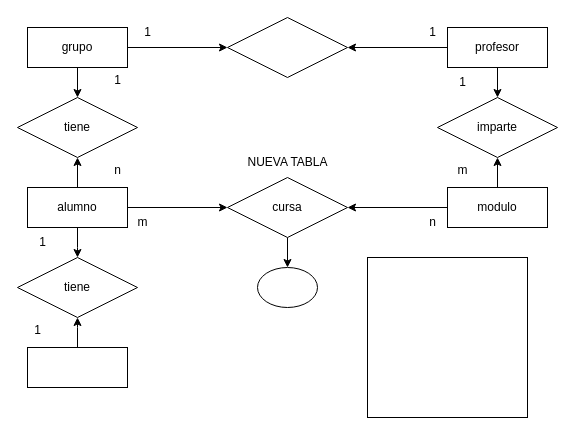
Some shapes in this 575 by 435 pixel diagram are drawn without their labels. The shapes that lost their labels are listed below. From the top down, each one's box as (x1, y1, x2, y2) in pixels, then its label:
(226, 16, 348, 78): tutor
(256, 266, 318, 308): nota
(366, 256, 528, 418): grupo alumno/direccion profesor modulo
(26, 346, 128, 388): direccion
